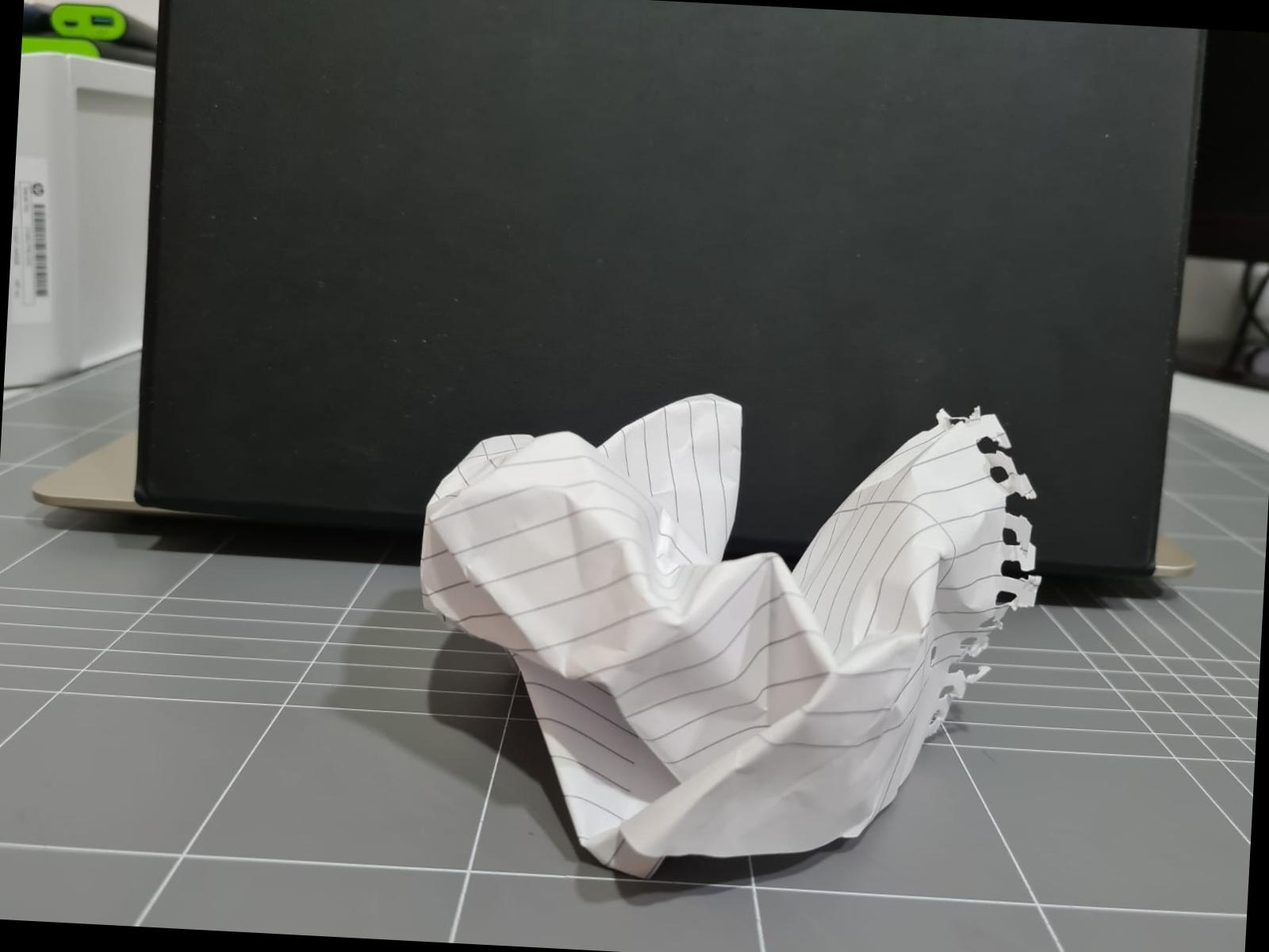Kertas: (398, 392, 1043, 881)
